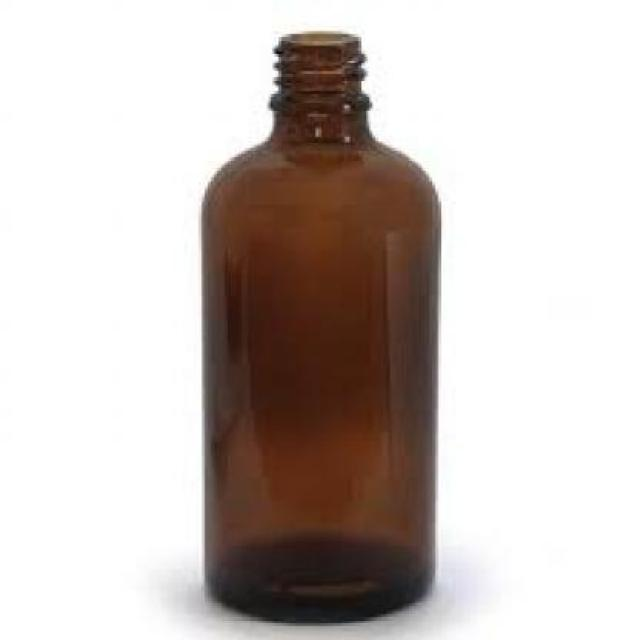kaca: (198, 31, 432, 623)
